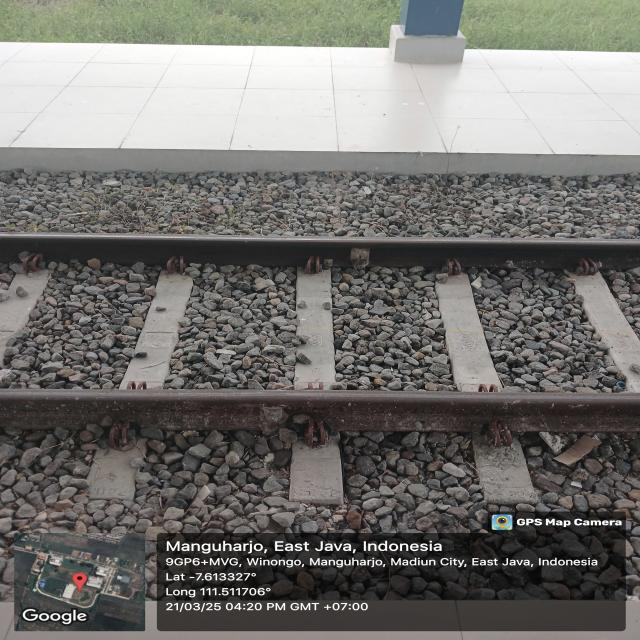rail-detection: (0, 389, 640, 432), (0, 232, 640, 269)
